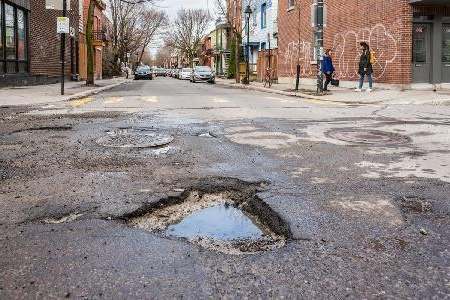pothole: (120, 174, 295, 258), (393, 192, 437, 219), (6, 123, 73, 139), (38, 208, 83, 226), (192, 128, 217, 139)
